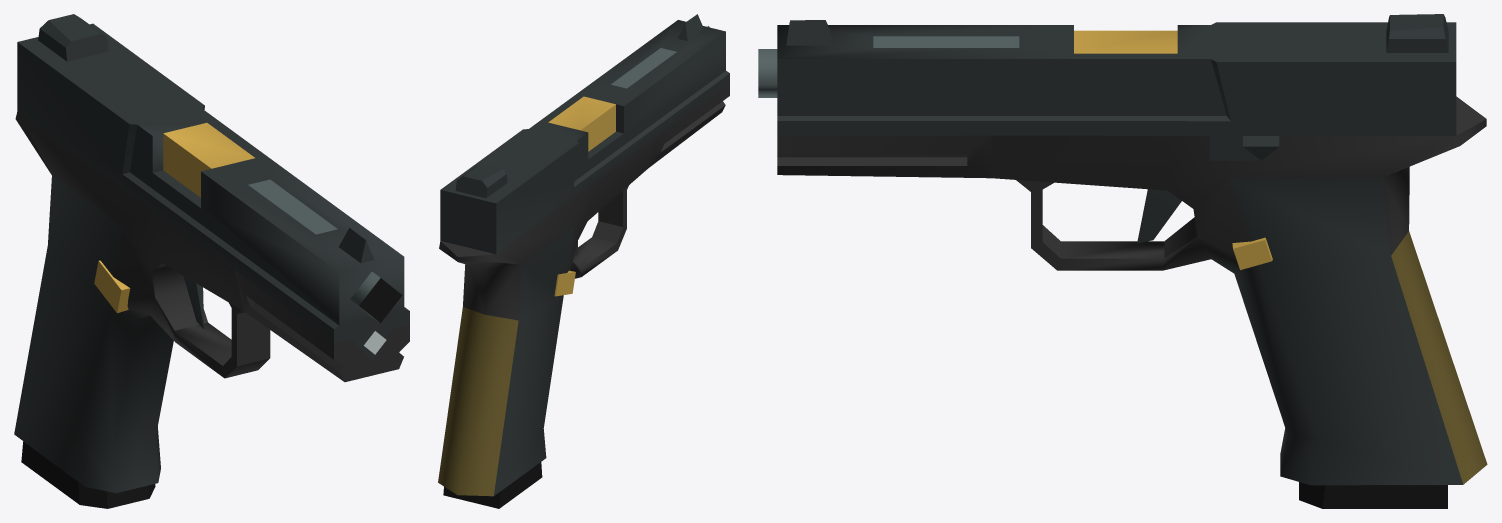
Rendered from Weapon_Low_Pistol.FBX.
3 renders of one model, left to right at view 1: azimuth 30°, elevation 25°; view 2: azimuth 150°, elevation 25°; view 3: azimuth 270°, elevation 25°, orthographic. The views are drawn at different scales.
Visible parts, largest first — view 1: WeaponPistol_Low, WeaponPistol_Mag_Low; view 2: WeaponPistol_Low, WeaponPistol_Mag_Low; view 3: WeaponPistol_Low, WeaponPistol_Mag_Low.
Boxes of the visible parts, x1=… form: WeaponPistol_Low: x1=14, y1=14, x2=409, y2=493; WeaponPistol_Mag_Low: x1=21, y1=441, x2=155, y2=508; WeaponPistol_Low: x1=438, y1=14, x2=729, y2=496; WeaponPistol_Mag_Low: x1=443, y1=462, x2=542, y2=508; WeaponPistol_Low: x1=758, y1=14, x2=1487, y2=485; WeaponPistol_Mag_Low: x1=1299, y1=482, x2=1447, y2=508.
Size of the model in its own units: 4.58 by 26.47 by 18.8.
